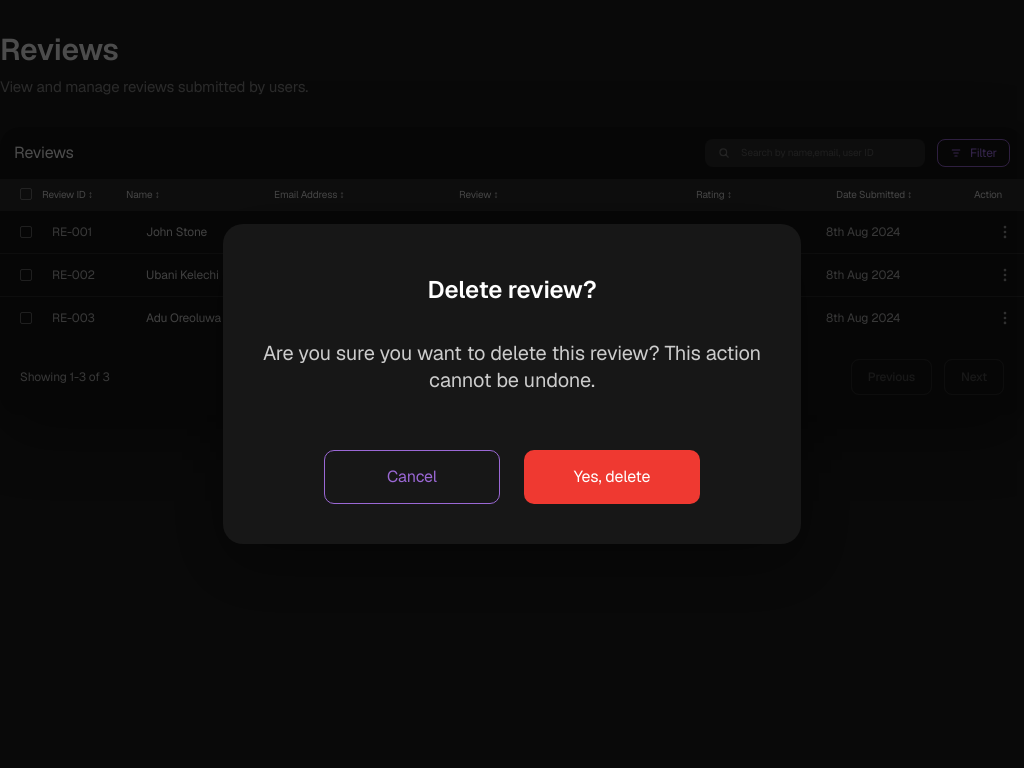
Scenario: ReviewsPage › closes route-opened delete review modal without router navigation
Click the button with aria-label "Cancel delete review": point(412, 477) [324, 450, 500, 504]
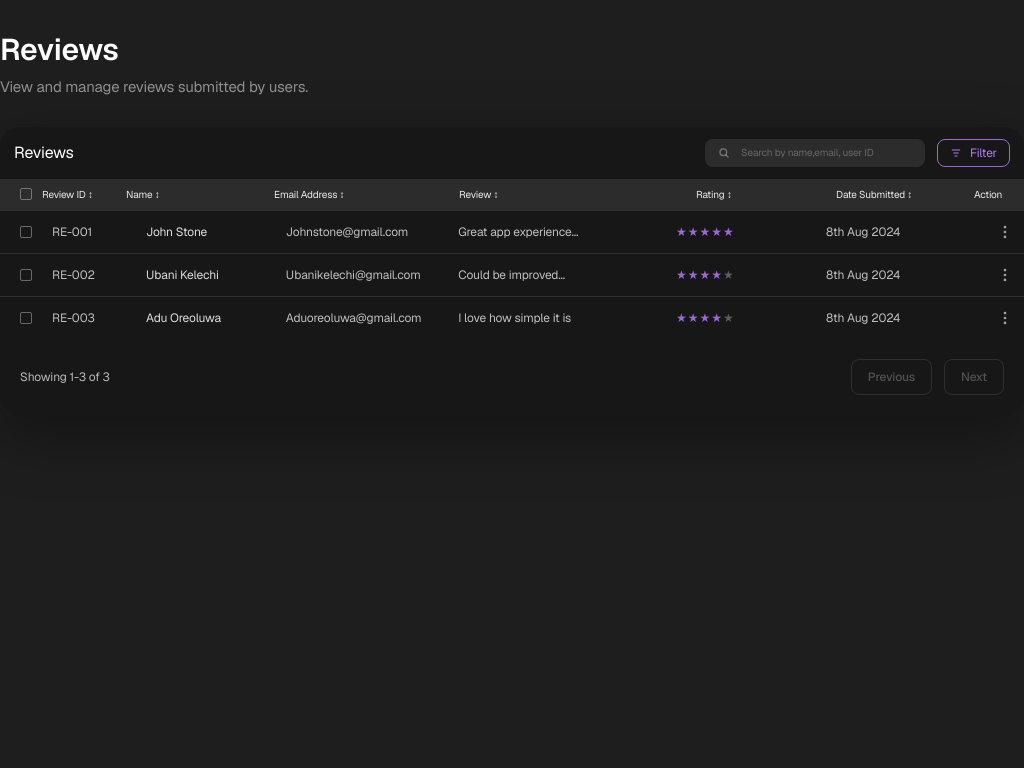
Expected: the heading "Delete review?" is gone
